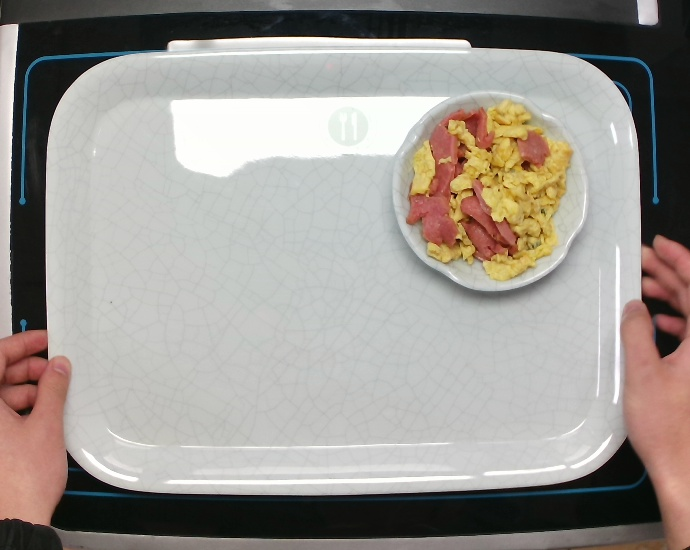JYsf-Ao_Yuan_Wan: (385, 86, 599, 297)
